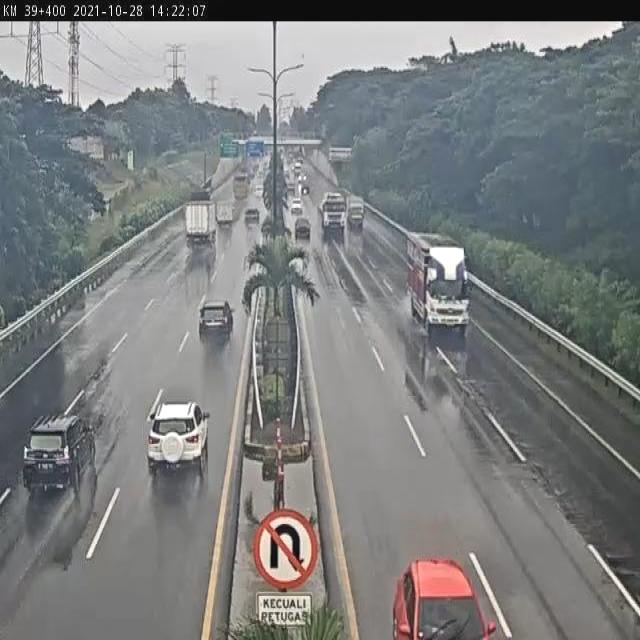Car: (390, 560, 498, 640), (21, 414, 98, 493), (144, 402, 214, 472), (199, 296, 235, 340), (295, 216, 312, 239), (245, 207, 259, 224), (290, 197, 305, 212), (255, 184, 267, 199), (297, 170, 308, 182), (286, 182, 296, 192)
Truck: (406, 230, 474, 334), (184, 196, 219, 247), (319, 188, 346, 232), (348, 192, 366, 233), (216, 199, 233, 229), (232, 174, 250, 201)
